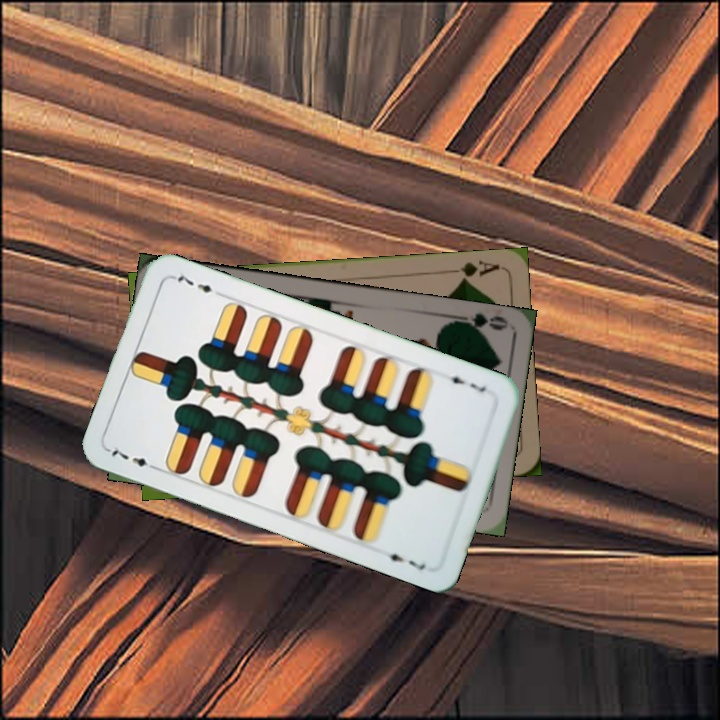E7: (105, 442, 162, 474), (441, 369, 489, 395)
GA: (443, 257, 502, 285)
GO: (448, 309, 509, 337)
